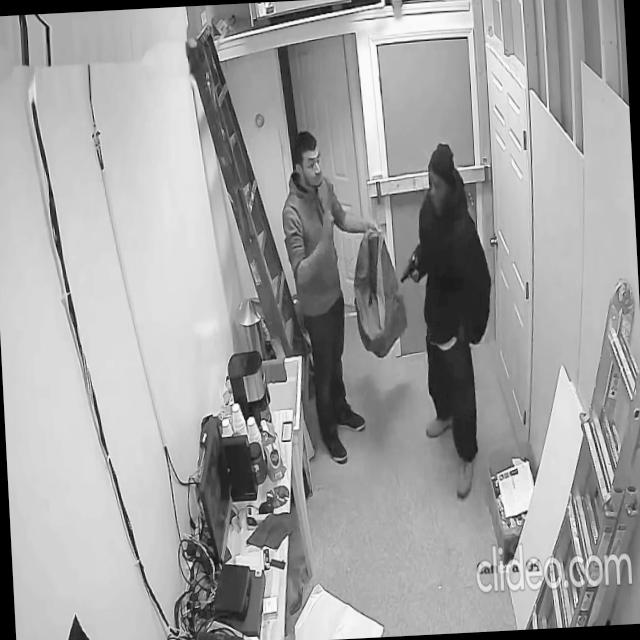gun: (398, 256, 418, 286)
person: (277, 125, 393, 468), (402, 138, 503, 502)
person with a gun: (394, 138, 505, 506)
